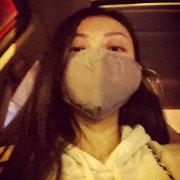OK: (60, 30, 133, 111)
